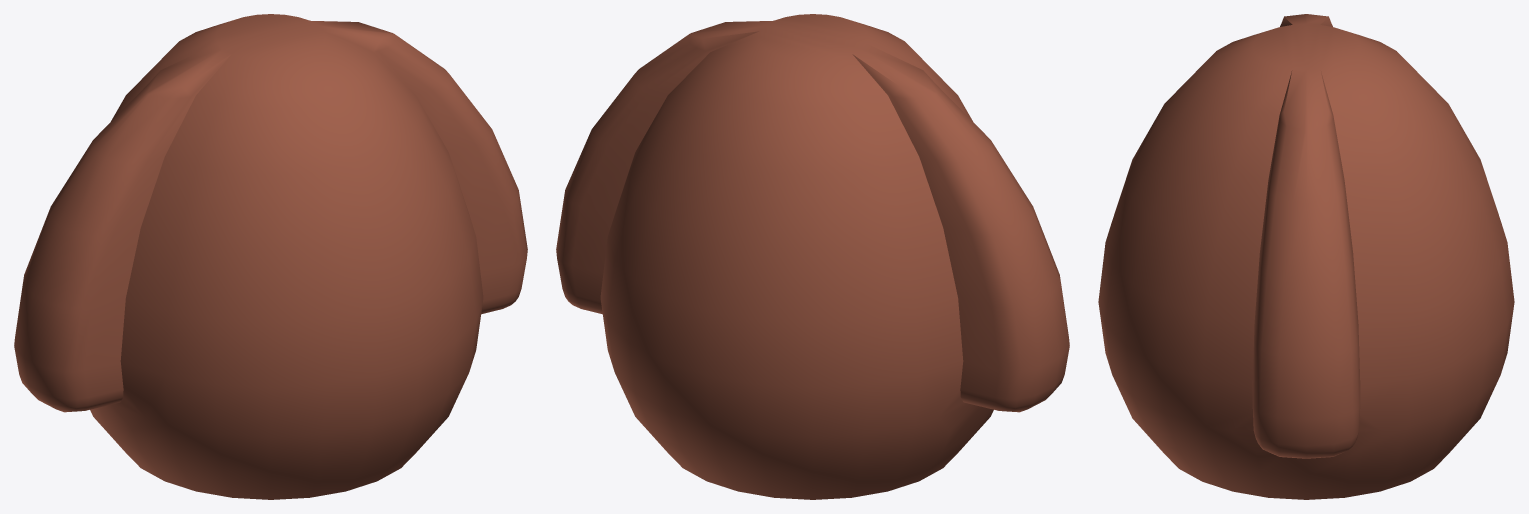
The model's file is character_bear-col.glb.
3 views of the same model, side by side, from view 1: azimuth 30°, elevation 25°; view 2: azimuth 150°, elevation 25°; view 3: azimuth 270°, elevation 25° (orthographic). The views are drawn at different scales.
Parts seen in each view (by area): view 1: character_bear-col; view 2: character_bear-col; view 3: character_bear-col.
Boxes of the visible parts, x1,y1,x2,y2 form: character_bear-col: [14, 14, 527, 499]; character_bear-col: [556, 14, 1069, 499]; character_bear-col: [1098, 14, 1514, 499].
Bounding box in the file's own units: 0.9379 × 0.7256 × 0.7.
